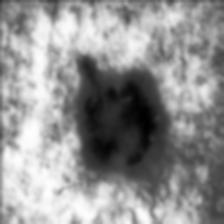Potentially Malignant Skin Tumors: (82, 53, 152, 185)
